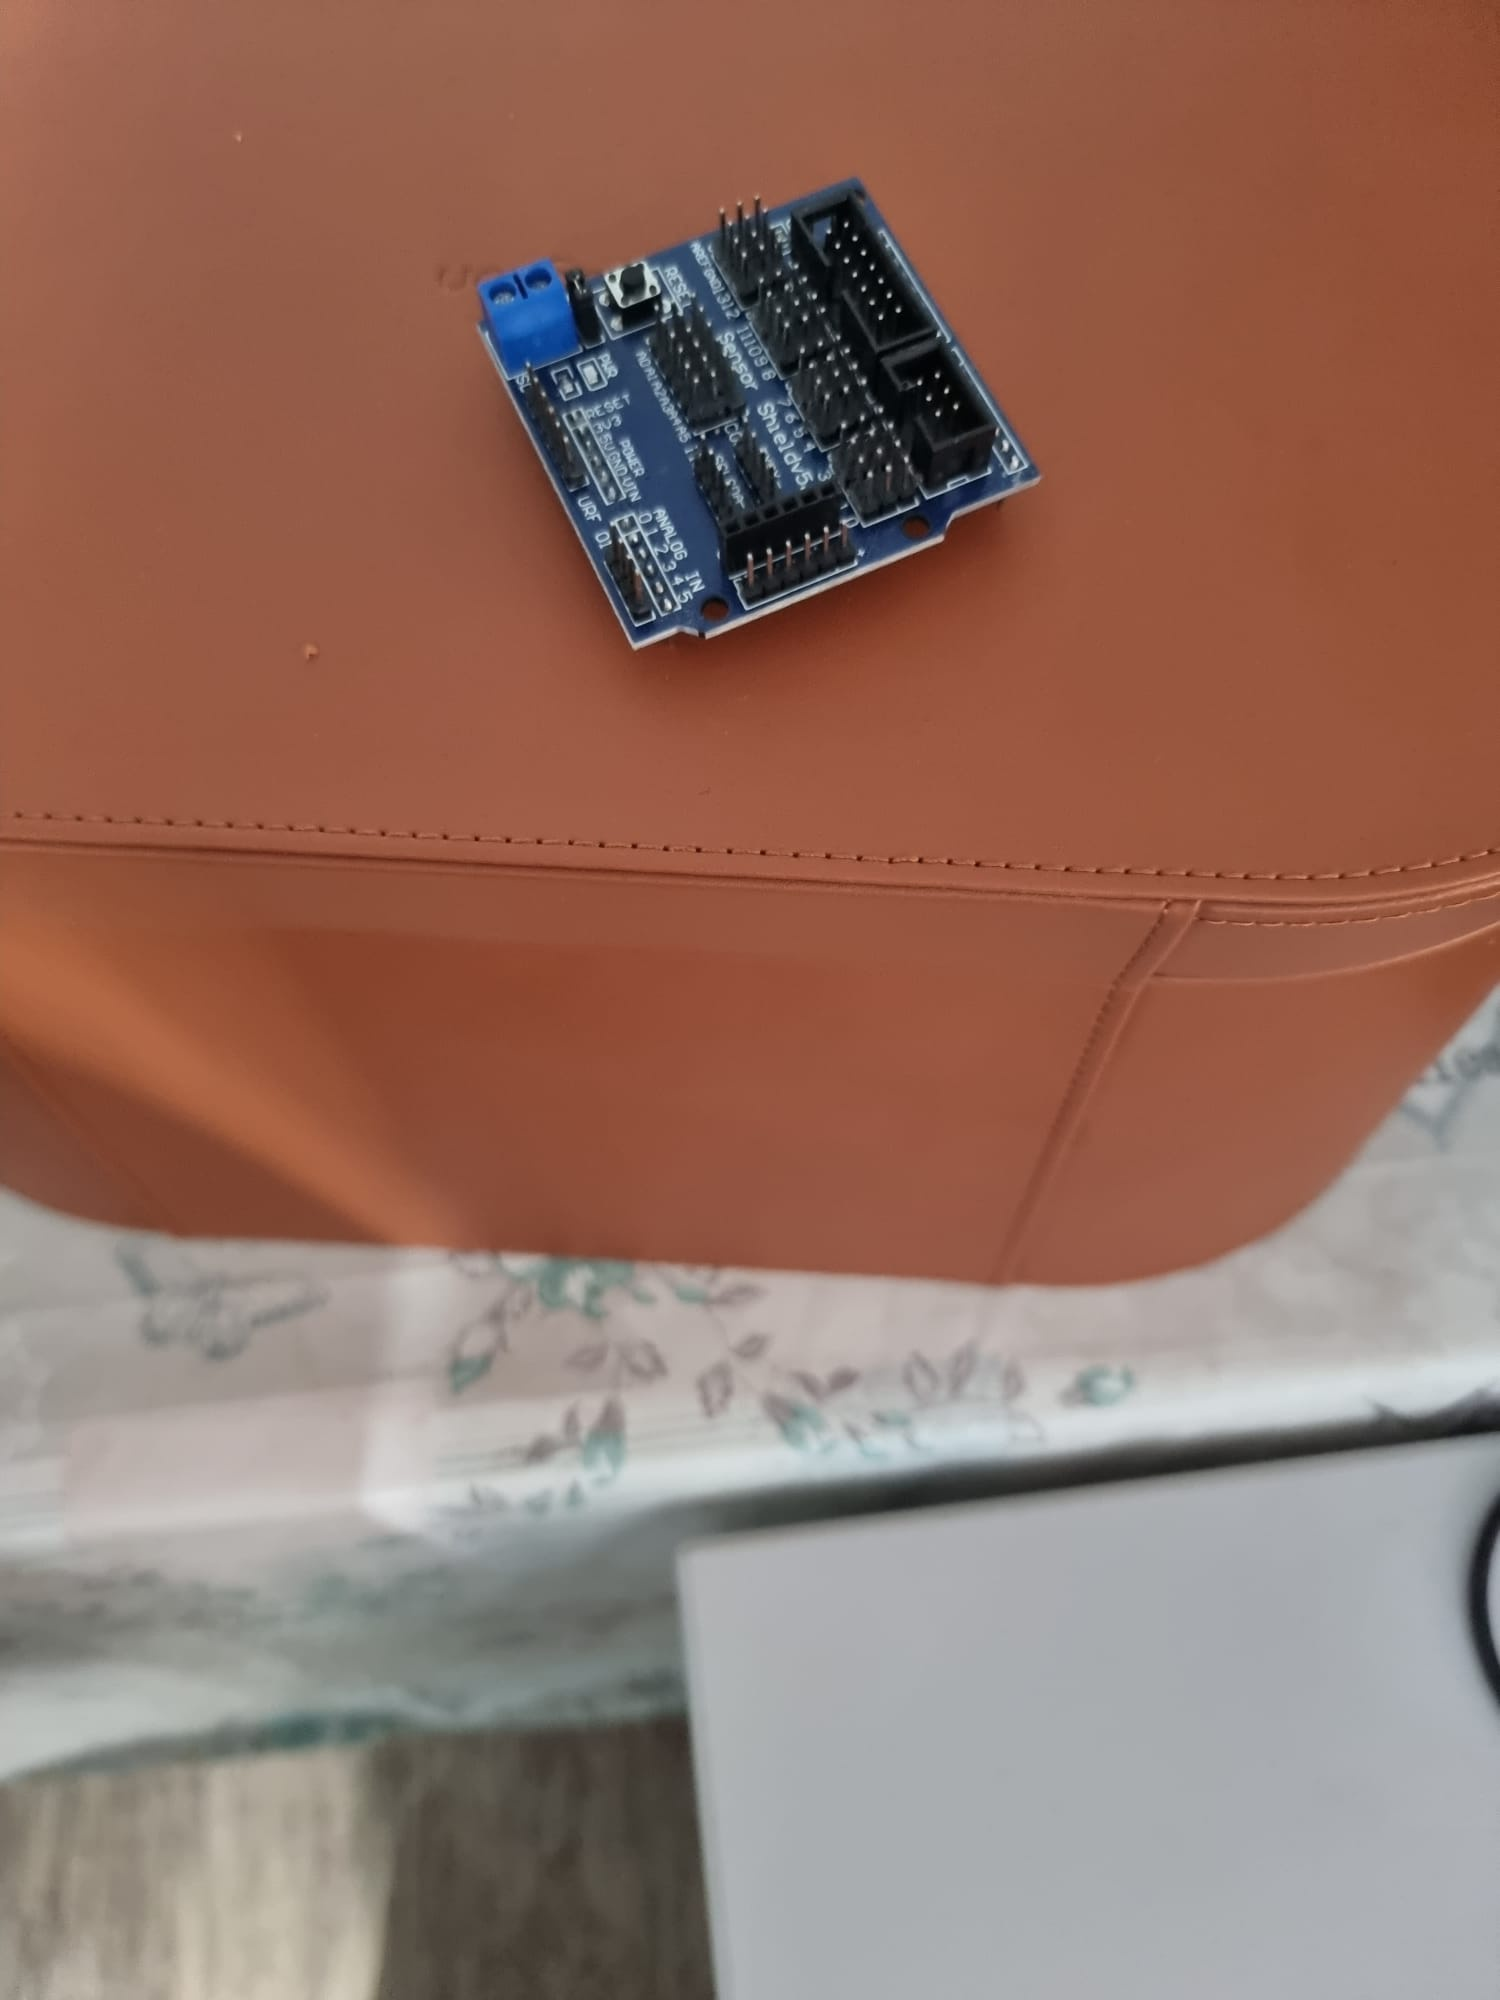5V EXPANSION: (476, 159, 1059, 650)
